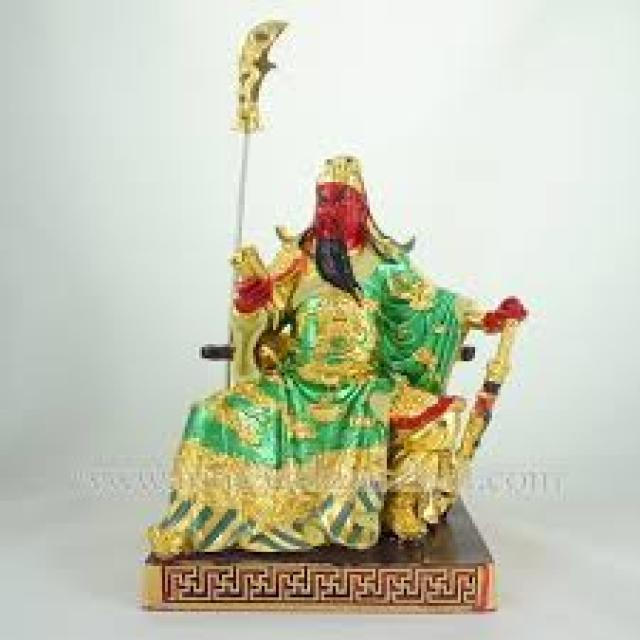Guan Yu: (228, 142, 444, 498)
